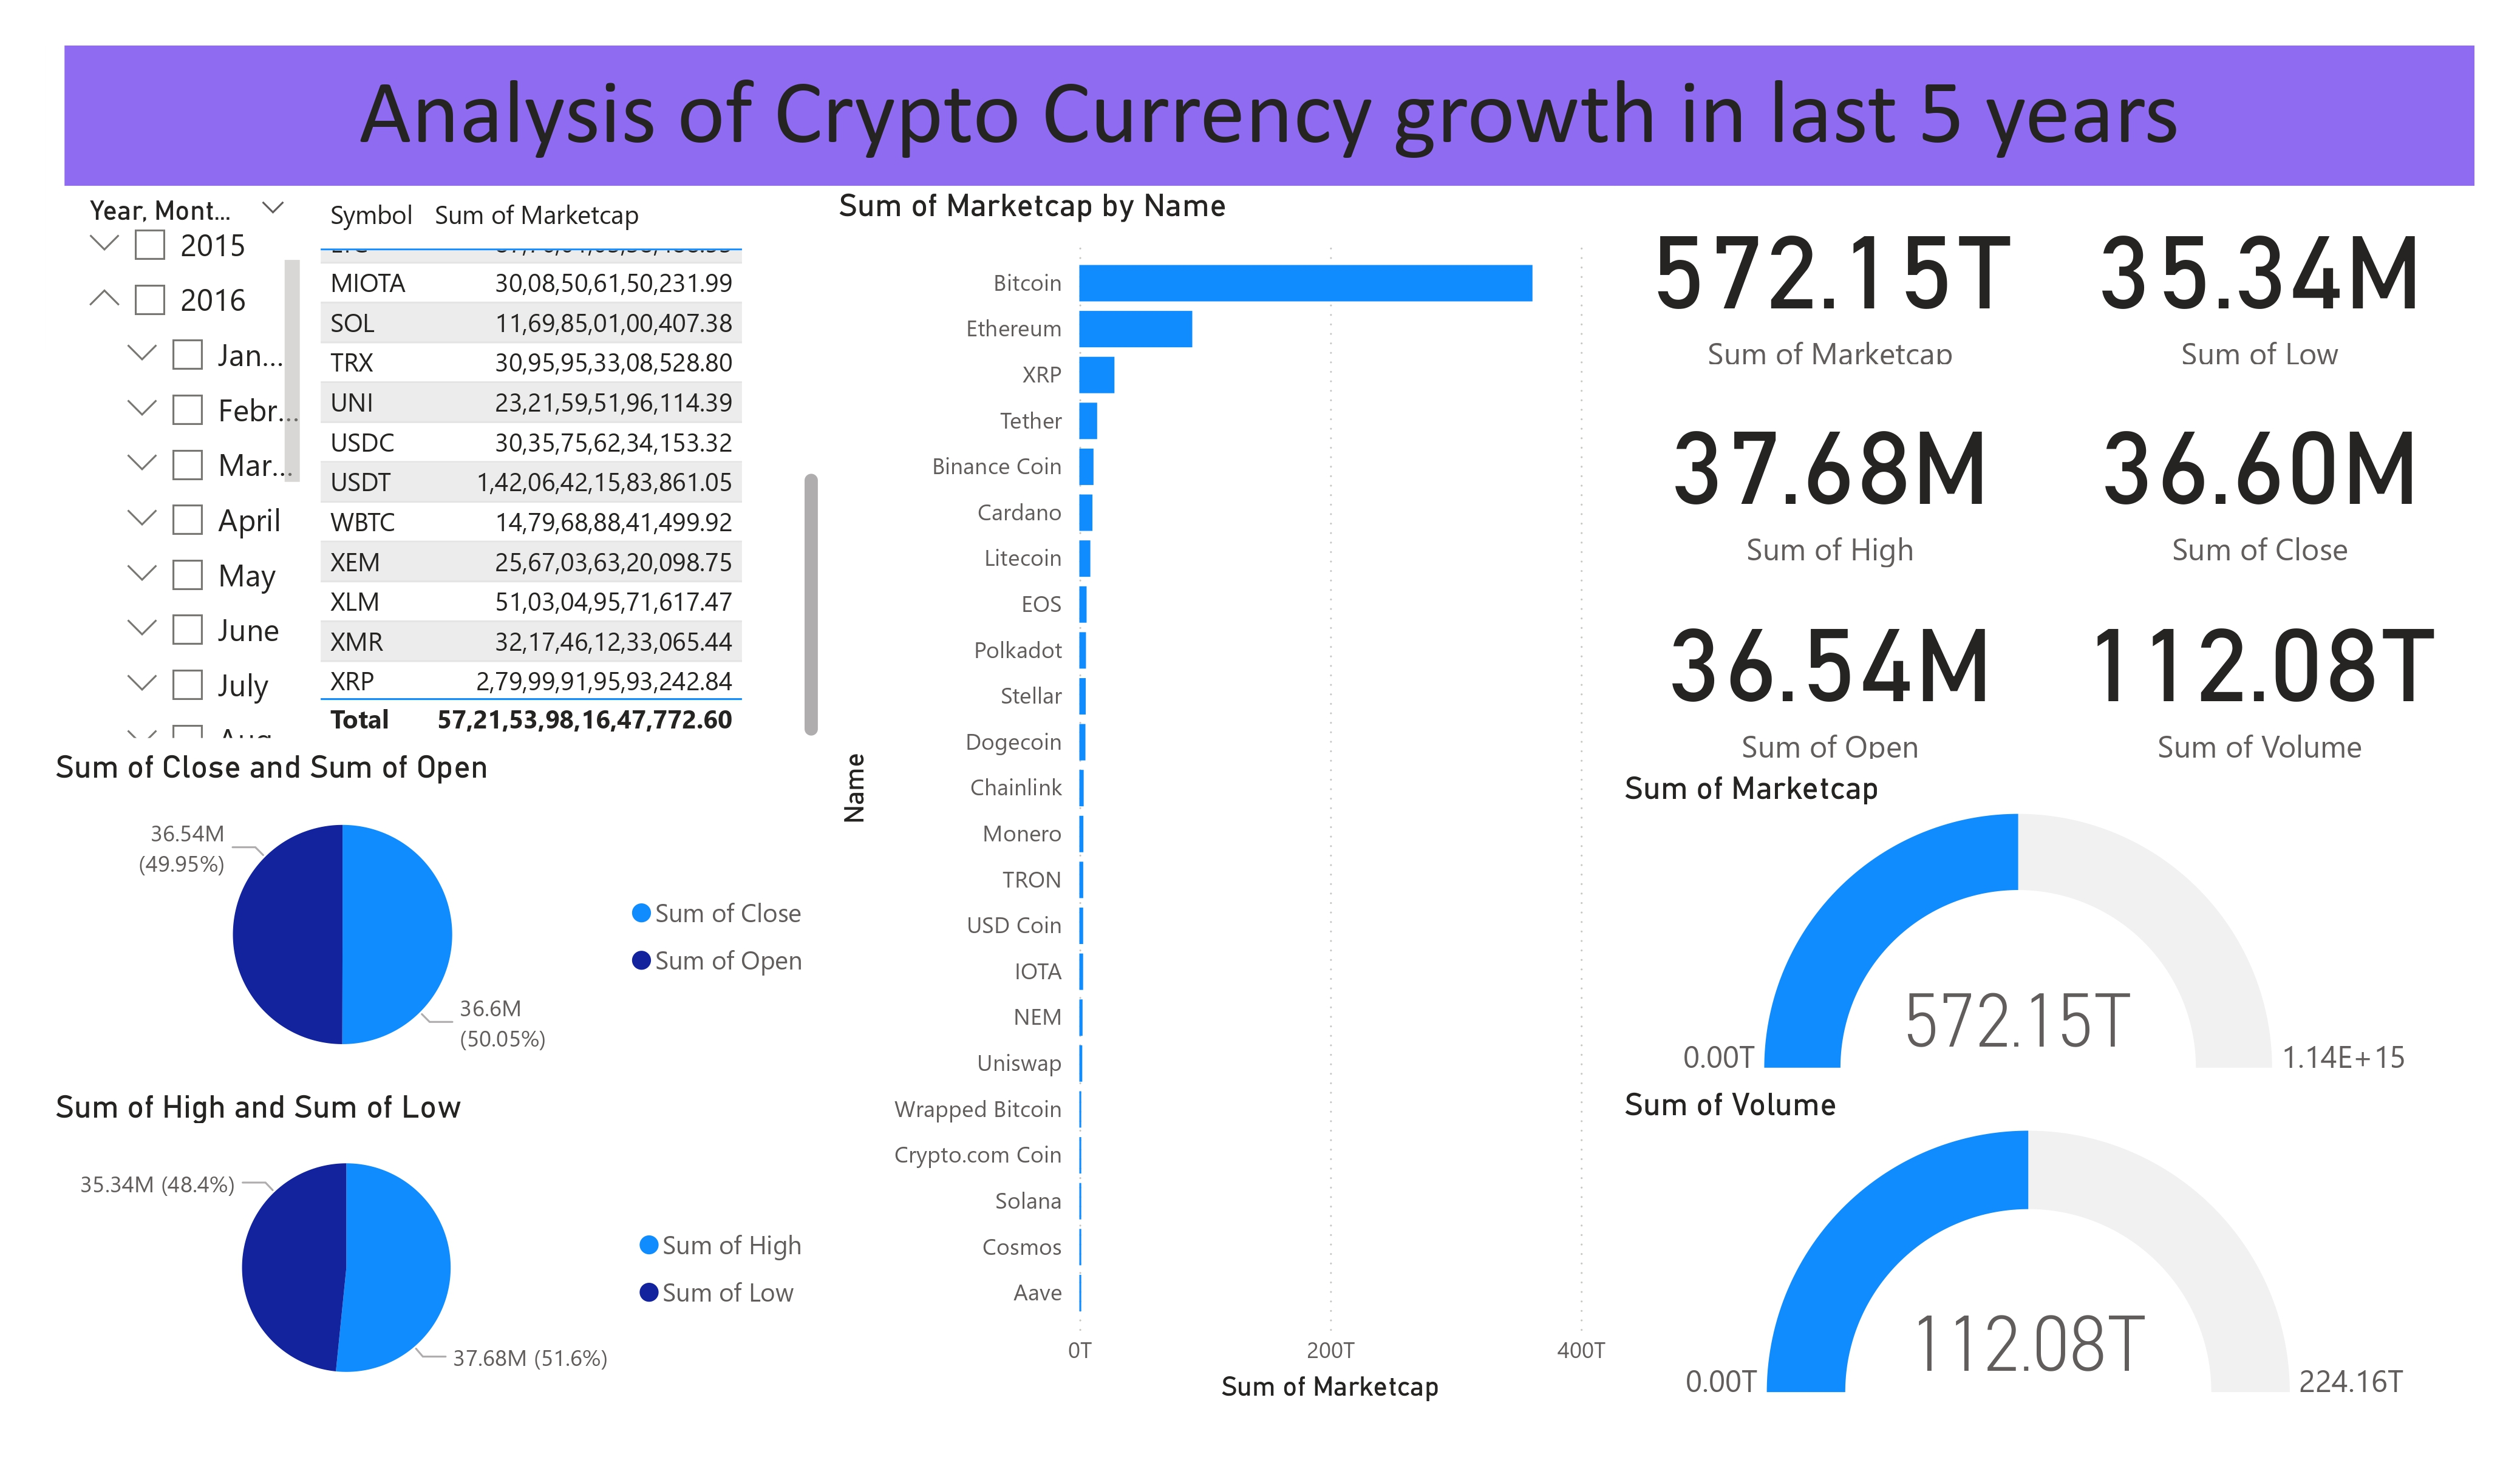

The page's visual inventory and layout, read from the dashboard file:
{"tool":"powerbi","page":{"name":"Page 1","canvas":[1280,720],"ordinal":0},"visuals":[{"type":"textbox","box":[9.6,0,1270.7,74.1],"z":0},{"type":"slicer","fields":{"Values":["CryptoData.Date.Variation.Date Hierarchy.Year","CryptoData.Date.Variation.Date Hierarchy.Month","CryptoData.Date.Variation.Date Hierarchy.Day"]},"box":[9.6,74.1,129,296.4],"z":1},{"type":"pieChart","fields":{"Y":["Sum(CryptoData.Close)","Sum(CryptoData.Open)"]},"box":[0,370.5,413,178.4],"z":2},{"type":"pieChart","fields":{"Y":["Sum(CryptoData.High)","Sum(CryptoData.Low)"]},"box":[0,548.9,413,171.5],"z":3},{"type":"tableEx","fields":{"Values":["CryptoData.Symbol","Sum(CryptoData.Marketcap)"]},"box":[138.6,74.1,274.4,296.4],"z":4},{"type":"clusteredBarChart","fields":{"Y":["Sum(CryptoData.Marketcap)"],"Category":["CryptoData.Name"]},"box":[413,74.1,414.4,646.3],"z":5},{"type":"card","fields":{"Values":["Sum(CryptoData.Marketcap)"]},"box":[827.4,74.1,226.4,98.8],"z":6},{"type":"card","fields":{"Values":["Sum(CryptoData.High)"]},"box":[827.4,172.9,226.4,107],"z":7},{"type":"card","fields":{"Values":["Sum(CryptoData.Low)"]},"box":[1053.9,74.1,226.4,98.8],"z":8},{"type":"card","fields":{"Values":["Sum(CryptoData.Close)"]},"box":[1053.9,172.9,226.4,107],"z":9},{"type":"card","fields":{"Values":["Sum(CryptoData.Open)"]},"box":[827.4,279.9,226.4,101.5],"z":10},{"type":"card","fields":{"Values":["Sum(CryptoData.Volume)"]},"box":[1053.9,279.9,226.4,101.5],"z":11},{"type":"gauge","fields":{"Y":["Sum(CryptoData.Marketcap)"]},"box":[827.4,381.5,452.8,167.4],"z":12},{"type":"gauge","fields":{"Y":["Sum(CryptoData.Volume)"]},"box":[827.4,547.5,452.8,172.9],"z":13}]}

Visuals, with their boxes in screenshot pixels (x1, y1, x2, y2):
textbox: (left=64, top=46, right=2474, bottom=186)
slicer - CryptoData.Date.Variation.Date Hierarchy.Year x CryptoData.Date.Variation.Date Hierarchy.Month: (left=64, top=186, right=308, bottom=749)
pieChart - Sum(CryptoData.Close) x Sum(CryptoData.Open): (left=46, top=749, right=829, bottom=1087)
pieChart - Sum(CryptoData.High) x Sum(CryptoData.Low): (left=46, top=1087, right=829, bottom=1411)
tableEx - CryptoData.Symbol x Sum(CryptoData.Marketcap): (left=308, top=186, right=829, bottom=749)
clusteredBarChart - Sum(CryptoData.Marketcap) x CryptoData.Name: (left=829, top=186, right=1616, bottom=1411)
card - Sum(CryptoData.Marketcap): (left=1616, top=186, right=2045, bottom=373)
card - Sum(CryptoData.High): (left=1616, top=373, right=2045, bottom=577)
card - Sum(CryptoData.Low): (left=2045, top=186, right=2474, bottom=373)
card - Sum(CryptoData.Close): (left=2045, top=373, right=2474, bottom=577)
card - Sum(CryptoData.Open): (left=1616, top=577, right=2045, bottom=769)
card - Sum(CryptoData.Volume): (left=2045, top=577, right=2474, bottom=769)
gauge - Sum(CryptoData.Marketcap): (left=1616, top=769, right=2474, bottom=1087)
gauge - Sum(CryptoData.Volume): (left=1616, top=1084, right=2474, bottom=1411)
